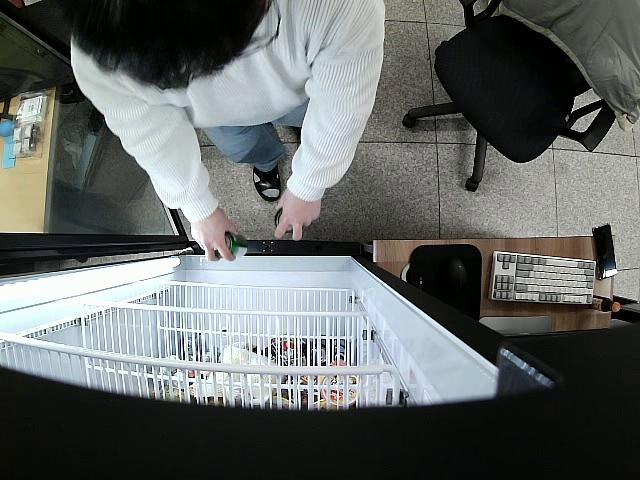00_hand: (275, 187, 321, 242), (190, 211, 237, 263)
12_chilsungCider: (215, 232, 250, 263)
